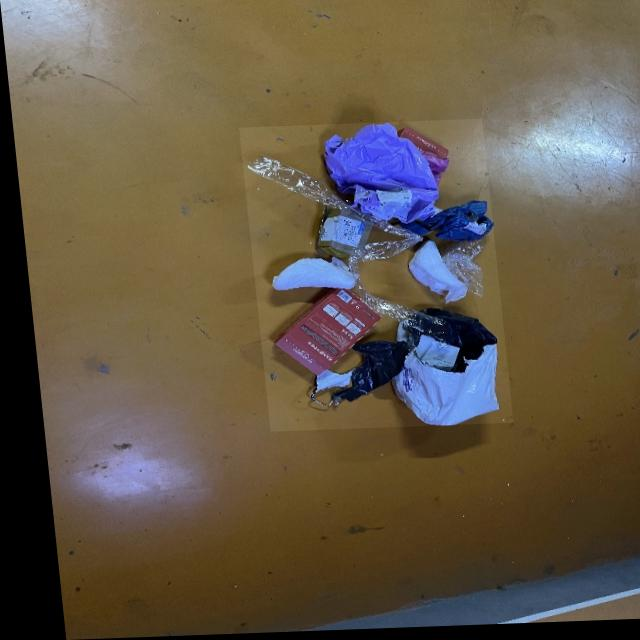garbage: (236, 123, 504, 433)
